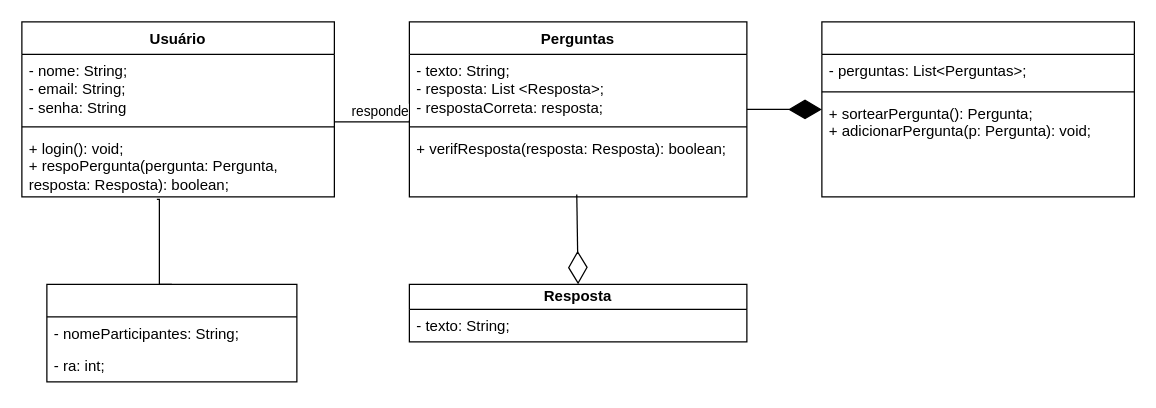
Some shapes in this 1156 by 408 pixel diagram are drawn without their labels. Each missing label, with the box of its shape:
Creditos: (46, 283, 297, 382)
Questionario: (821, 21, 1134, 197)
